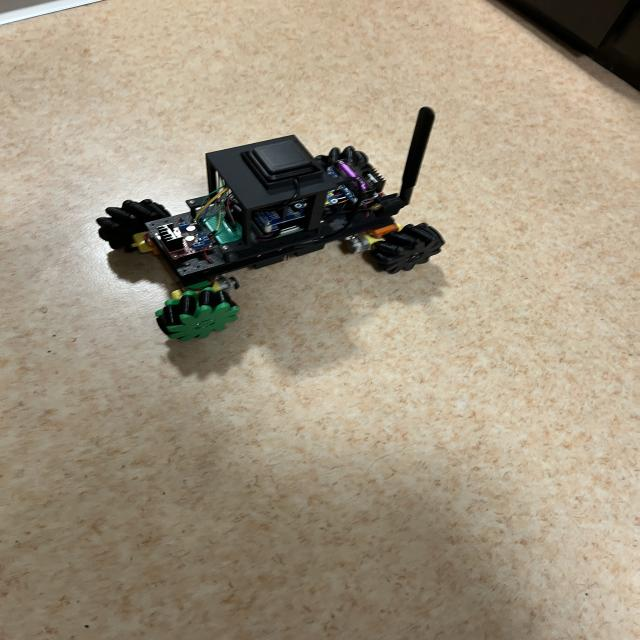robot: (96, 107, 444, 340)
